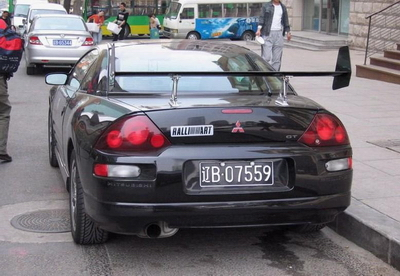plate_number: (198, 160, 273, 185), (51, 40, 72, 47)
